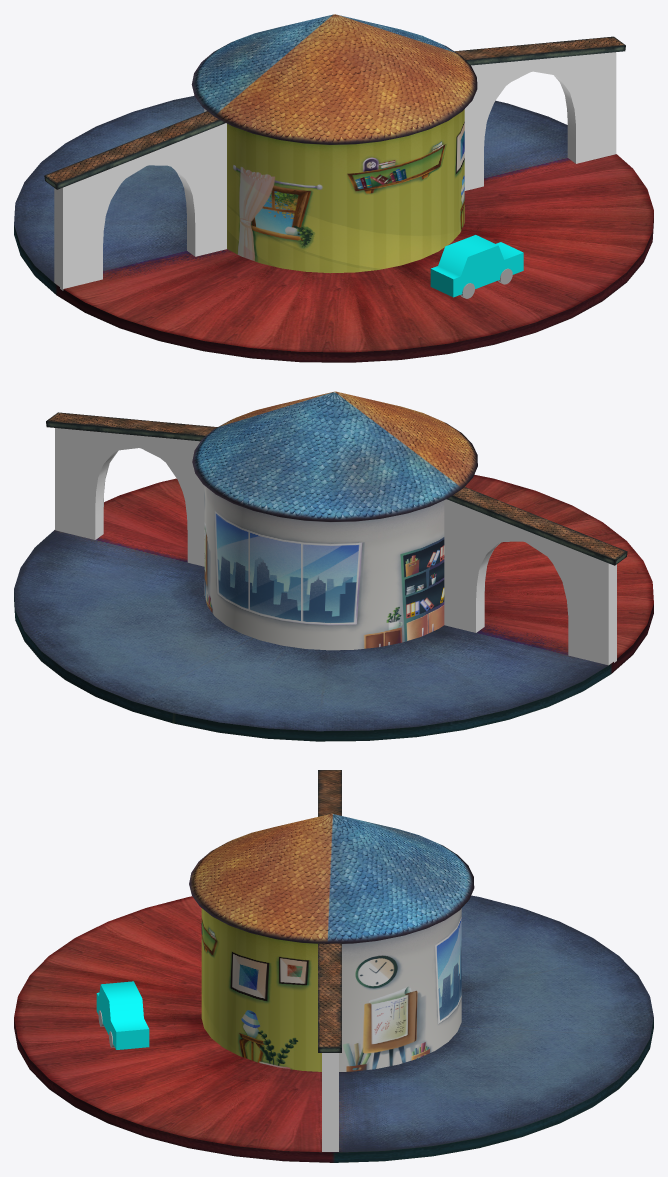
Rendered from Set_anim_Test_01_GLB.glb.
The picture shows the model from 3 angles, top to bottom: view 1: azimuth 30°, elevation 25°; view 2: azimuth 150°, elevation 25°; view 3: azimuth 270°, elevation 25°; orthographic projection.
Parts seen in each view (by area): view 1: polySurface32_4, polySurface32_3, polySurface32_1, polySurface32_2, polySurface32_6; view 2: polySurface32_4, polySurface32_3, polySurface32_1, polySurface32_2; view 3: polySurface32_4, polySurface32_3, polySurface32_2, polySurface32_6, polySurface32_1.
Part boxes in pixels (x1=…): polySurface32_4: x1=14, y1=95, x2=653, y2=362; polySurface32_3: x1=191, y1=14, x2=477, y2=273; polySurface32_1: x1=54, y1=52, x2=616, y2=290; polySurface32_2: x1=44, y1=36, x2=625, y2=189; polySurface32_6: x1=430, y1=235, x2=523, y2=297; polySurface32_4: x1=14, y1=474, x2=653, y2=741; polySurface32_3: x1=192, y1=391, x2=477, y2=650; polySurface32_1: x1=55, y1=428, x2=616, y2=665; polySurface32_2: x1=46, y1=412, x2=627, y2=565; polySurface32_4: x1=14, y1=895, x2=653, y2=1162; polySurface32_3: x1=189, y1=813, x2=474, y2=1071; polySurface32_2: x1=318, y1=770, x2=341, y2=1052; polySurface32_6: x1=96, y1=981, x2=149, y2=1049; polySurface32_1: x1=322, y1=1053, x2=338, y2=1151.
Size of the model in its own units: 173 by 63.36 by 168.
Materials: 6 (3 with a texture image).
